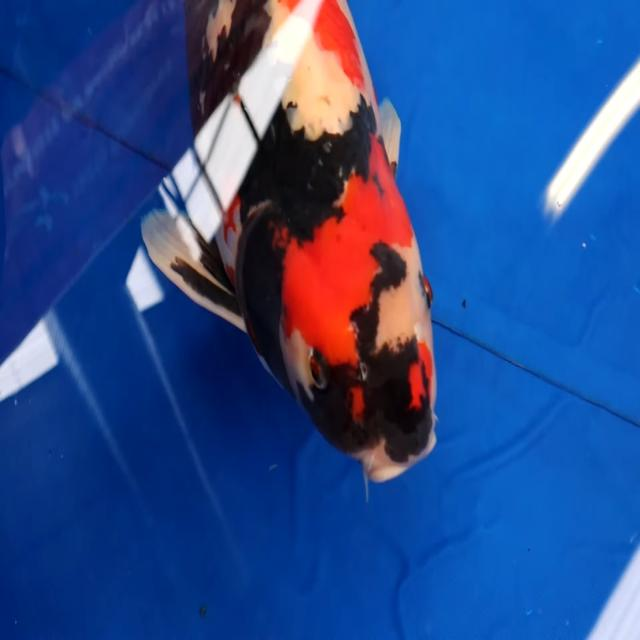Showa: (140, 0, 440, 499)
